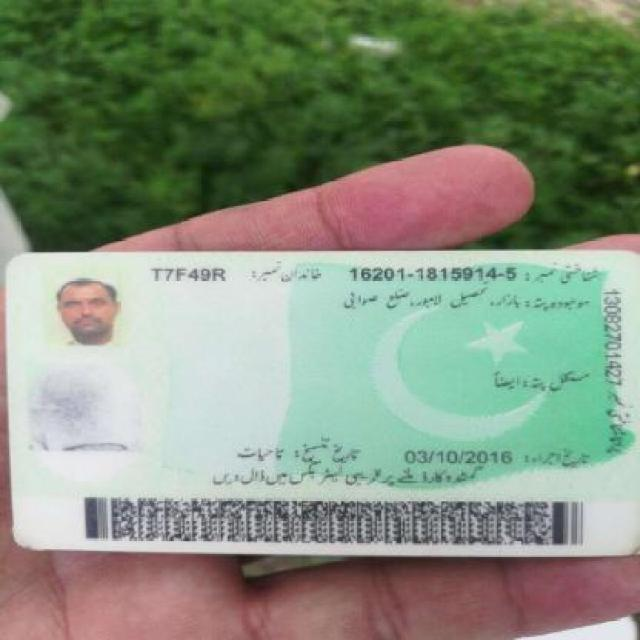Back: (12, 245, 632, 560)
